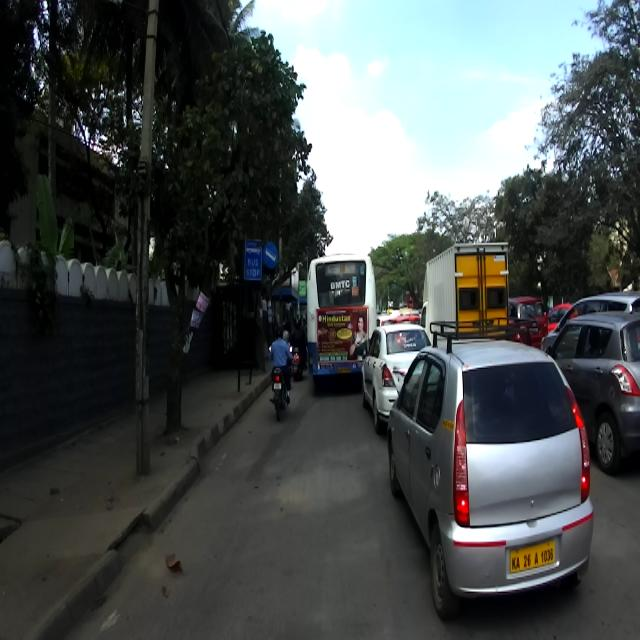car ahead at: (387, 336, 594, 622)
sign board ahead at: (242, 233, 283, 285)
